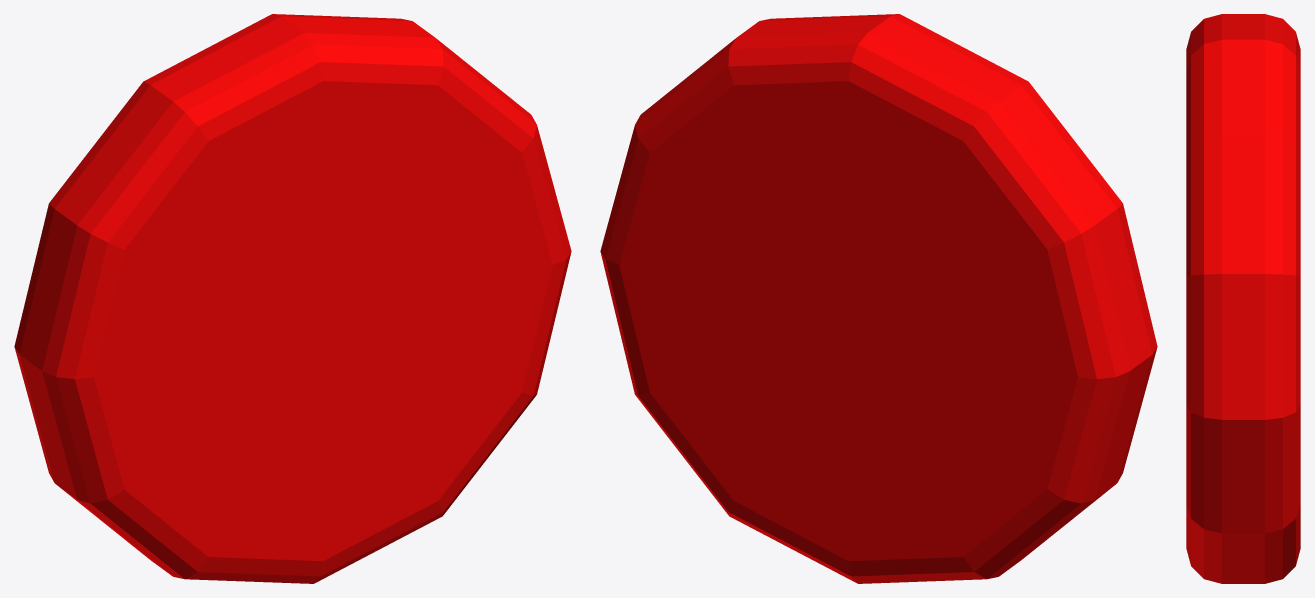
File: rambler_Chasis_vis_21.dae
3 views of the same model, side by side, from view 1: azimuth 30°, elevation 25°; view 2: azimuth 150°, elevation 25°; view 3: azimuth 270°, elevation 25° (orthographic). The views are drawn at different scales.
Parts seen in each view (by area): view 1: Node_0x7fe0fc4d5380; view 2: Node_0x7fe0fc4d5380; view 3: Node_0x7fe0fc4d5380.
Boxes of the visible parts, x1,y1,x2,y2 form: Node_0x7fe0fc4d5380: (14,14,571,583); Node_0x7fe0fc4d5380: (600,14,1157,583); Node_0x7fe0fc4d5380: (1186,14,1300,583).
Size of the model in its own units: 0.04 by 0.04 by 0.008.
